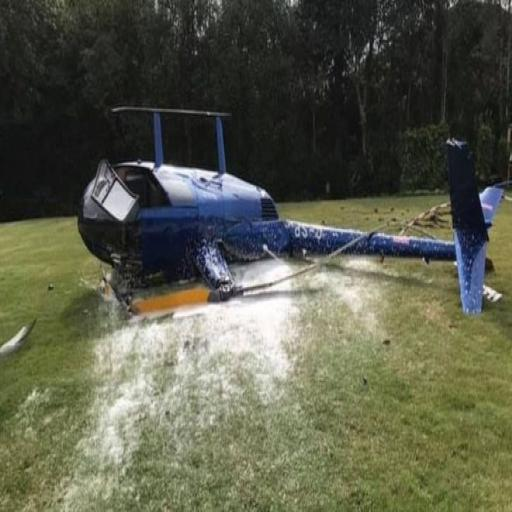helicopter: (48, 90, 512, 341)
